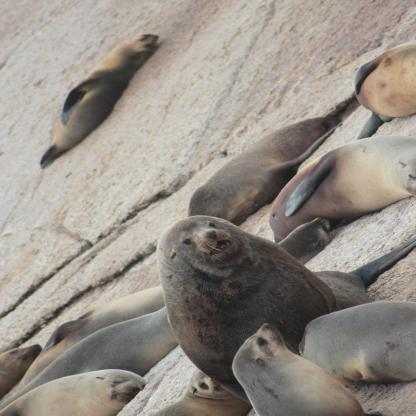face: (174, 219, 246, 266), (242, 322, 292, 353), (190, 369, 235, 397), (107, 376, 150, 402), (298, 215, 337, 238), (9, 343, 46, 365), (398, 166, 415, 198)
